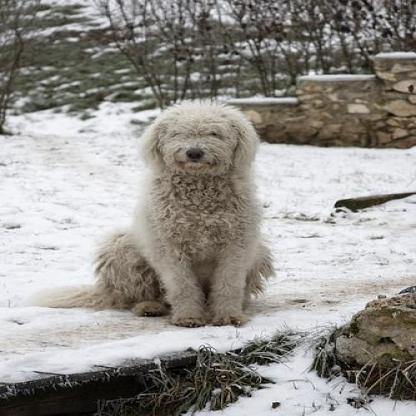komondor: (0, 96, 276, 326)
